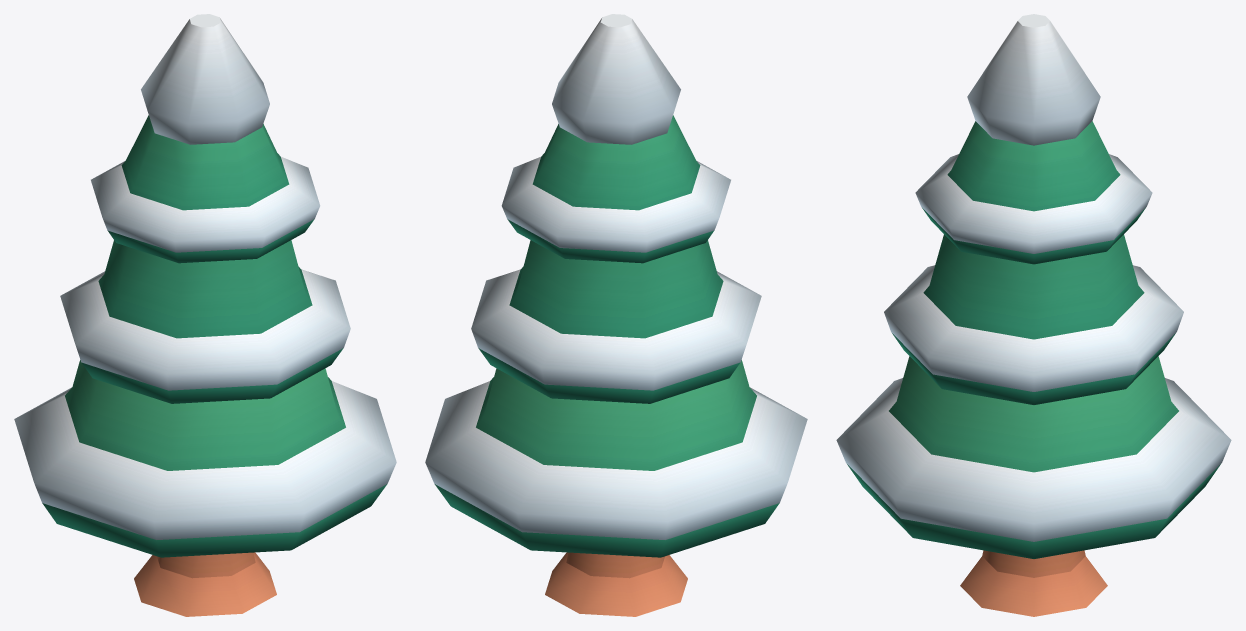
File: holiday-tree-snow-b.glb
The picture shows the model from 3 angles, left to right: view 1: azimuth 30°, elevation 25°; view 2: azimuth 150°, elevation 25°; view 3: azimuth 270°, elevation 25°; orthographic projection.
Parts seen in each view (by area): view 1: tree-snow-b; view 2: tree-snow-b; view 3: tree-snow-b.
Boxes of the visible parts, x1,y1,x2,y2 form: tree-snow-b: (14, 14, 396, 616); tree-snow-b: (425, 14, 807, 616); tree-snow-b: (836, 14, 1231, 616).
Bounding box in the file's own units: 1.25 × 1.97 × 1.25.
1 material, 1 textured.
